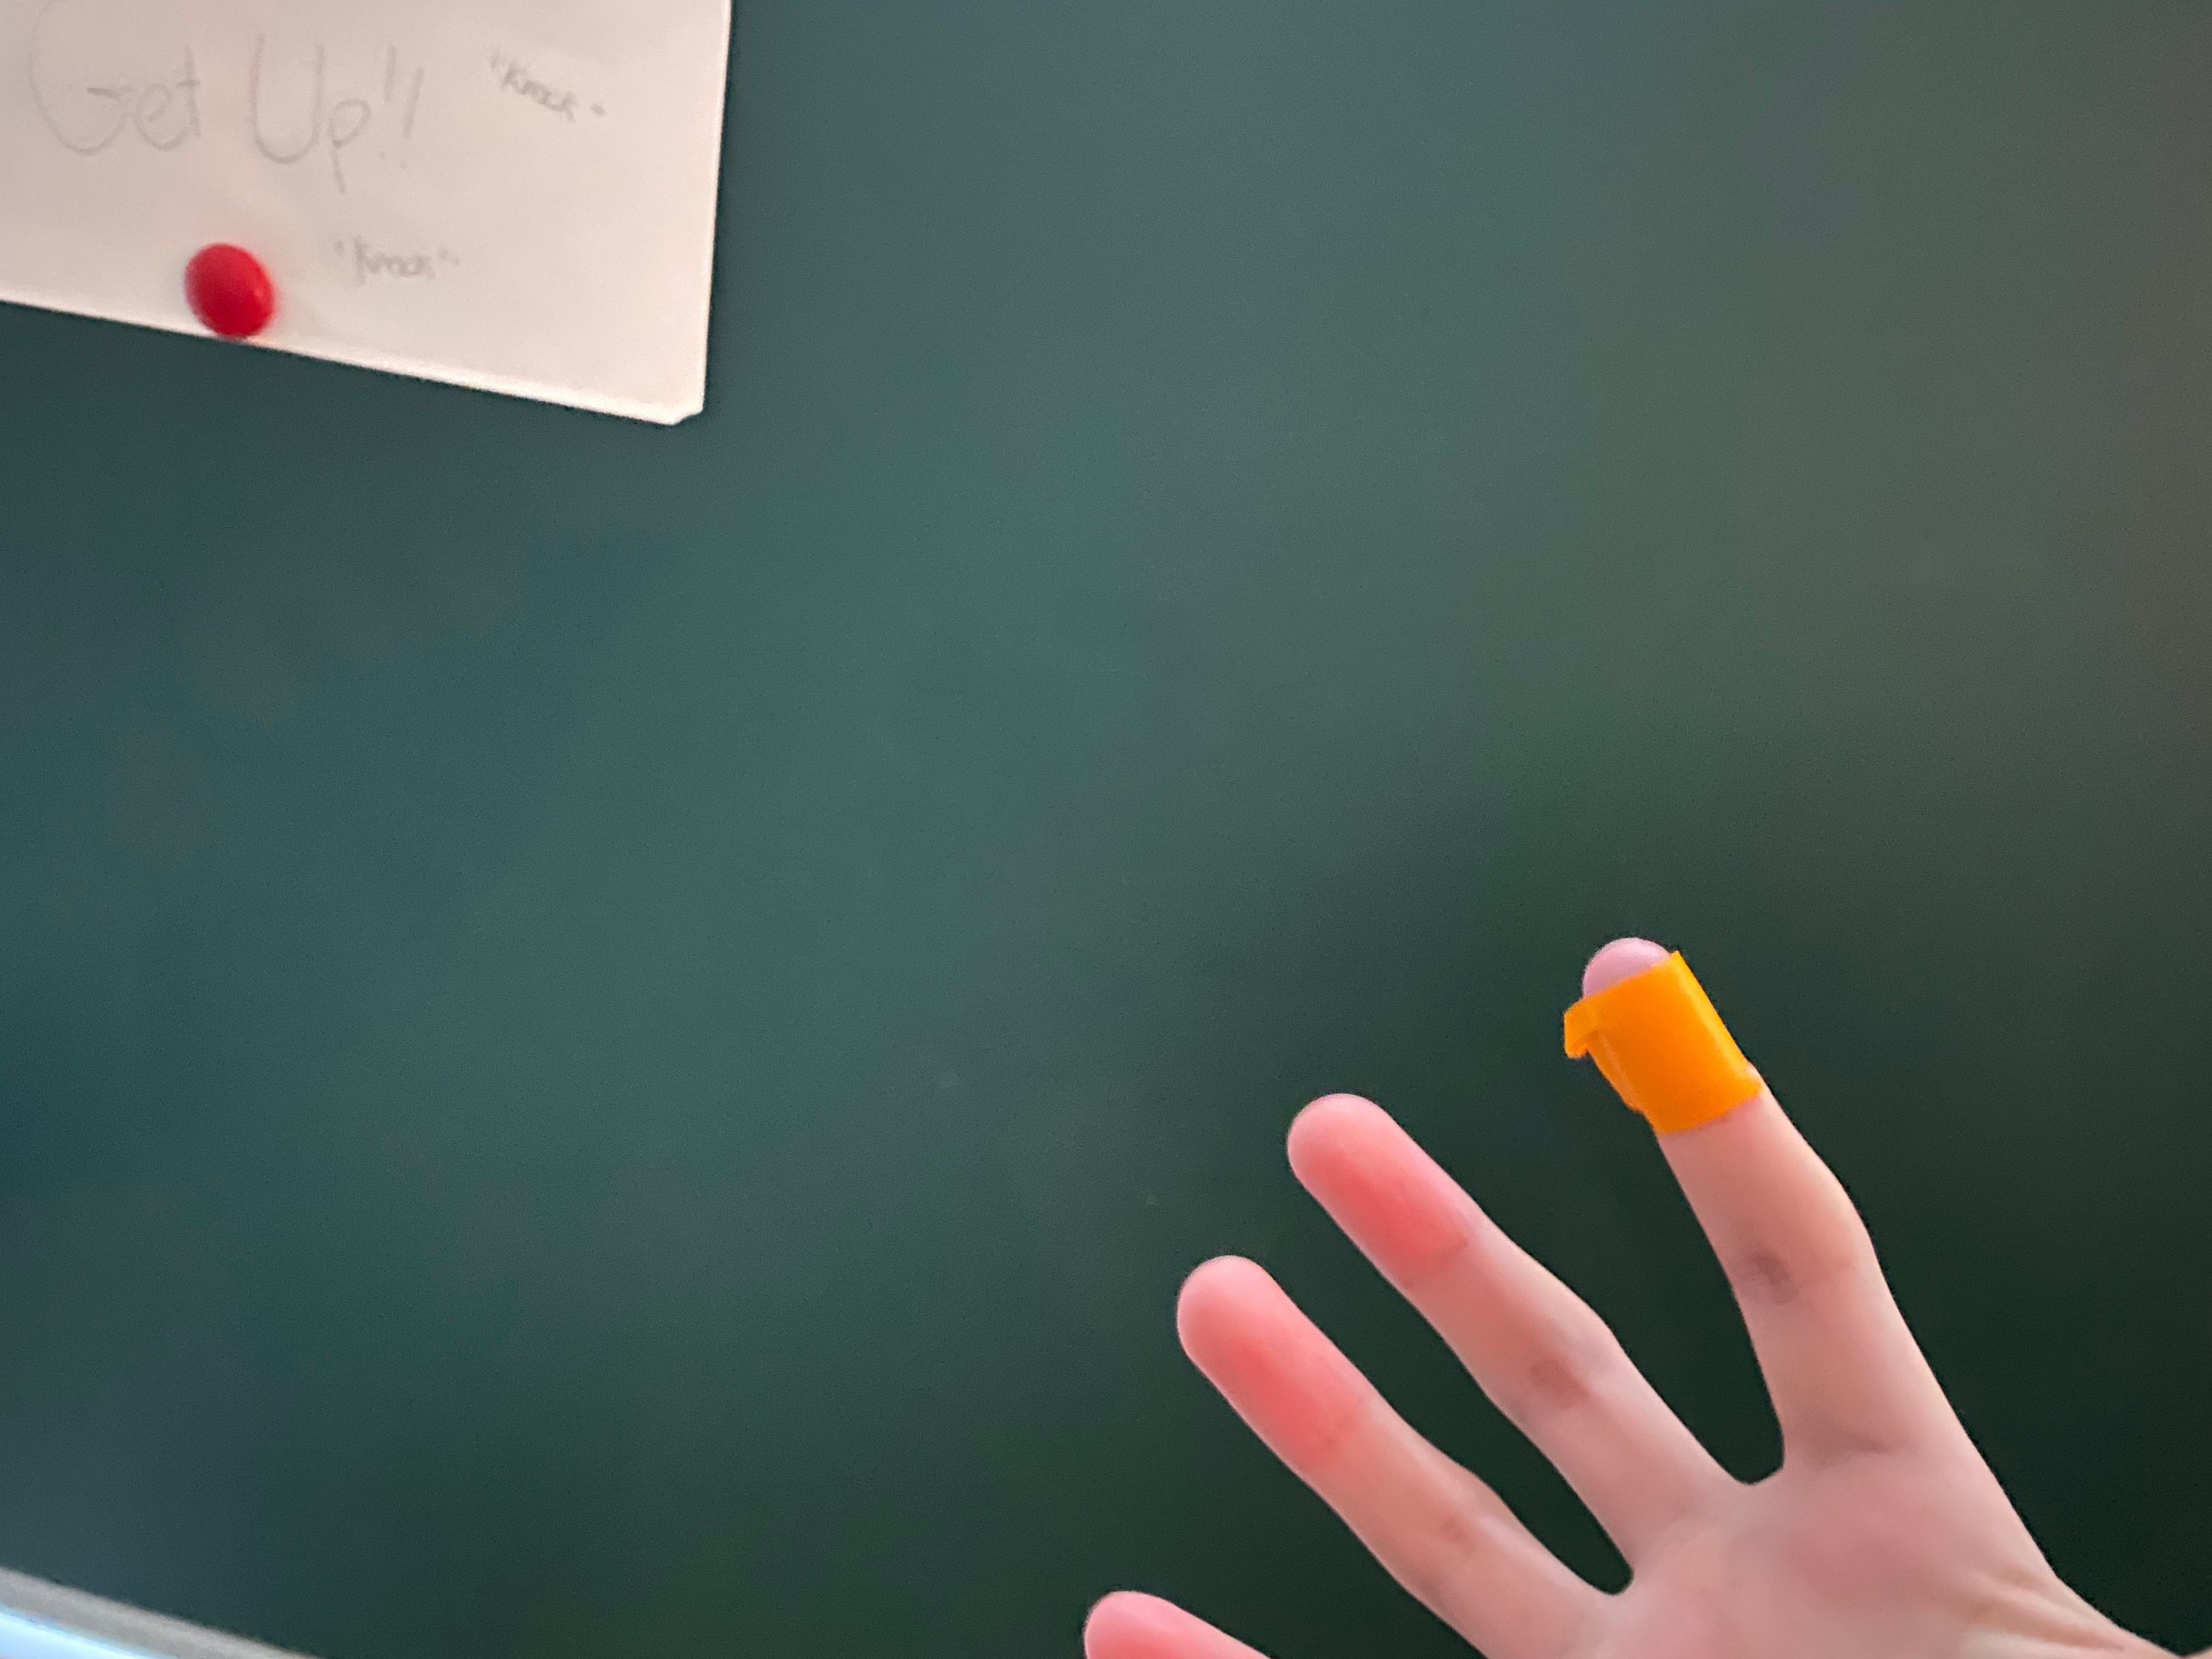fingertip: (1526, 929, 1825, 1152)
